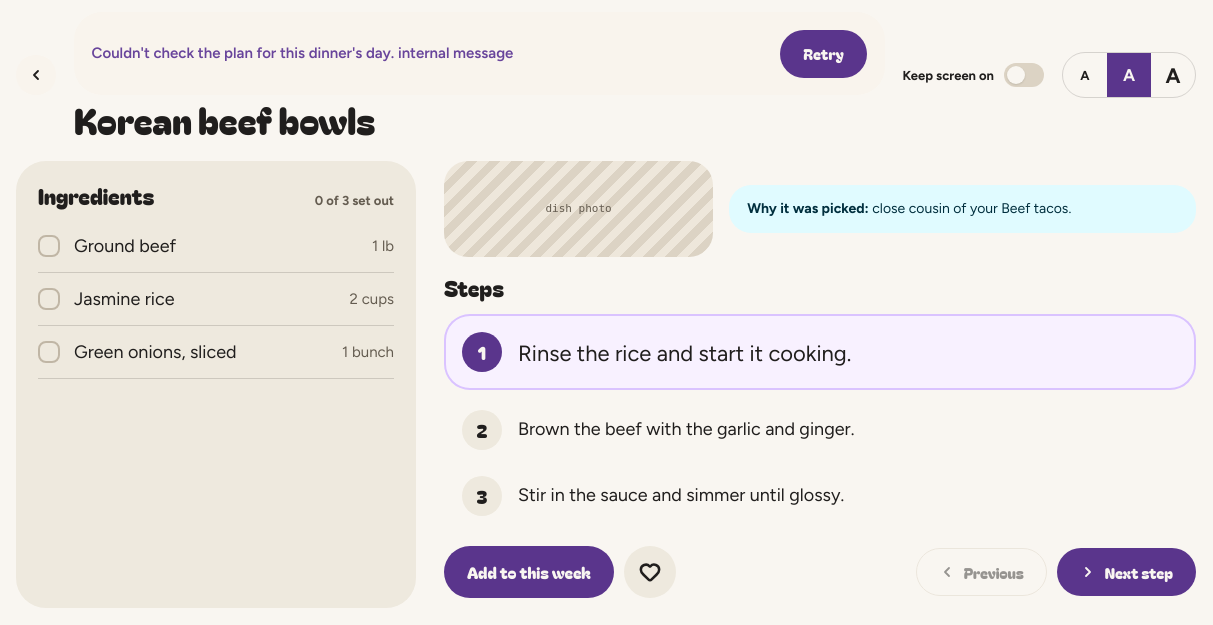
it: Kitchen reading mode › kicker › says so when the plan cannot be read, with Retry
The width and height of the screenshot is (1213, 625).
Expected: the heading "Korean beef bowls" is shown, [74,93,375,145]
Expected: the text "Couldn't check the plan for this dinner's day" is shown, [92,44,398,62]
Step 1. Click the button "Retry" → {"x": 824, "y": 54}, box [780,30,867,78]
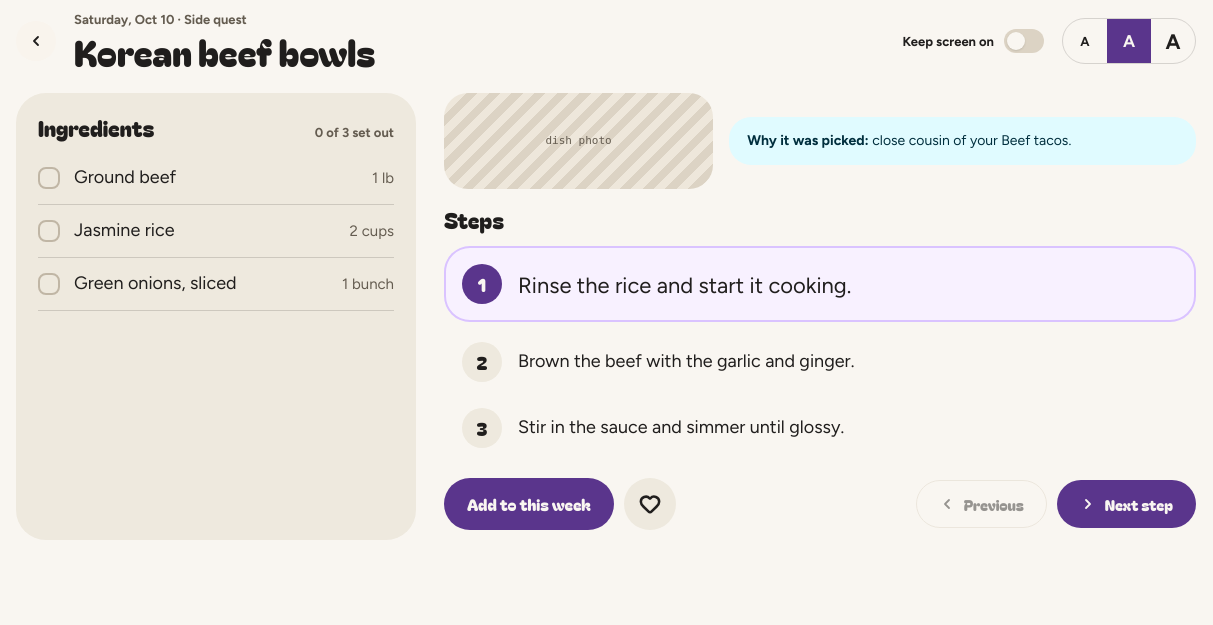
Expected: the text "Saturday, Oct 10 · Side quest" is shown, [74,12,247,27]
